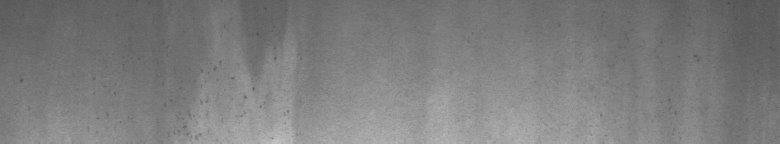ib: (181, 61, 289, 136)
